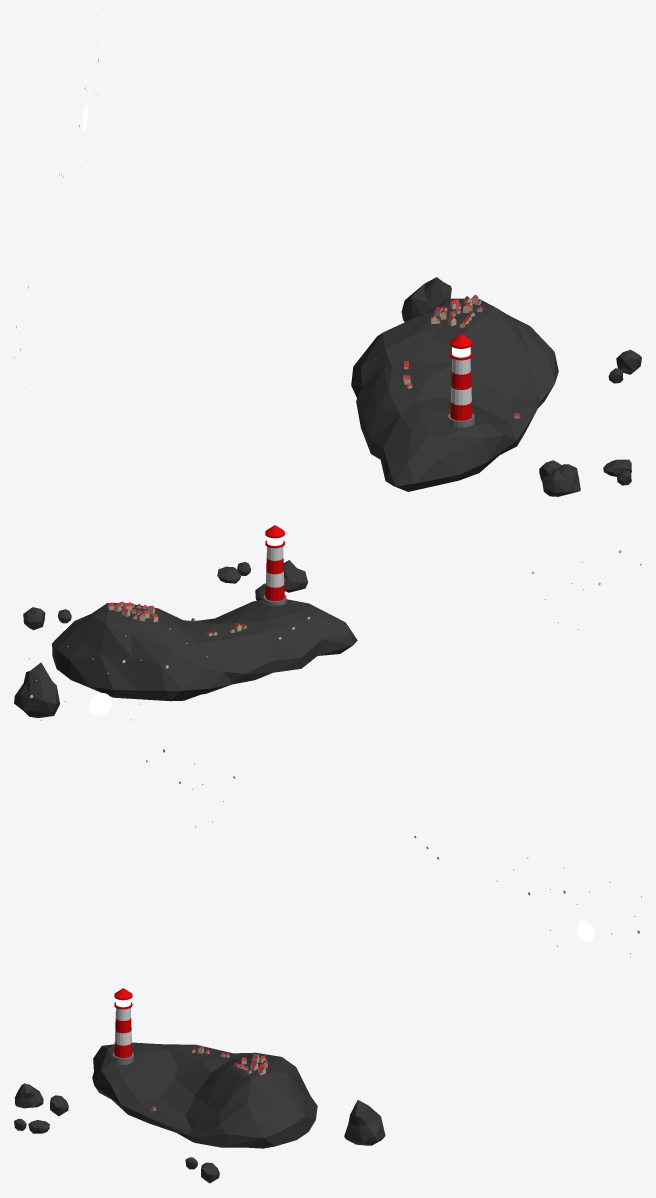
The model's file is Lighthouse_Scene.fbx.
3 views of the same model, one above another, from view 1: azimuth 30°, elevation 25°; view 2: azimuth 150°, elevation 25°; view 3: azimuth 270°, elevation 25° (orthographic). The views are drawn at different scales.
Parts seen in each view (by area): view 1: Base_Rocks, LightHouse, Rock_Debry2, Rock_Debry.001; view 2: Base_Rocks, Rock_Debry2, LightHouse, Rock_Debry.001, Moon, Rock_Debry.005, Rock_Debry.002; view 3: Base_Rocks, Rock_Debry2, LightHouse.
Part boxes in pixels (x1,y1,x2,y2): Base_Rocks: (351, 298, 558, 491); LightHouse: (448, 334, 474, 427); Rock_Debry2: (401, 277, 451, 321); Rock_Debry.001: (542, 464, 580, 496); Base_Rocks: (52, 599, 357, 701); Rock_Debry2: (14, 662, 59, 718); LightHouse: (263, 525, 286, 605); Rock_Debry.001: (283, 560, 308, 592); Moon: (89, 693, 111, 715); Rock_Debry.005: (23, 607, 45, 630); Rock_Debry.002: (217, 566, 240, 583); Base_Rocks: (92, 1042, 317, 1148); Rock_Debry2: (344, 1100, 385, 1145); LightHouse: (112, 988, 133, 1065).
Size of what is drawn, in the model's own units: 5797 by 1979 by 5886.
